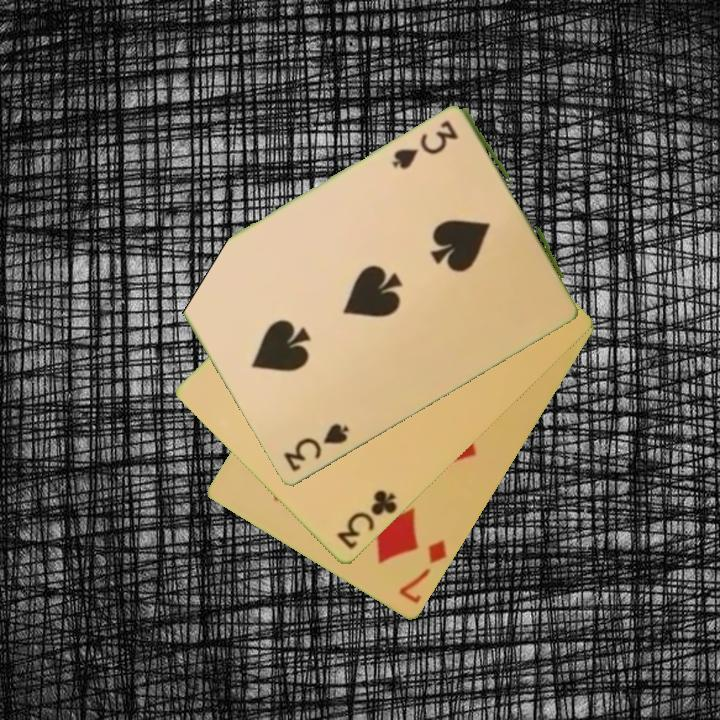3c: (333, 486, 400, 553)
3s: (279, 420, 352, 476), (390, 117, 461, 173)
7d: (395, 536, 450, 607)
